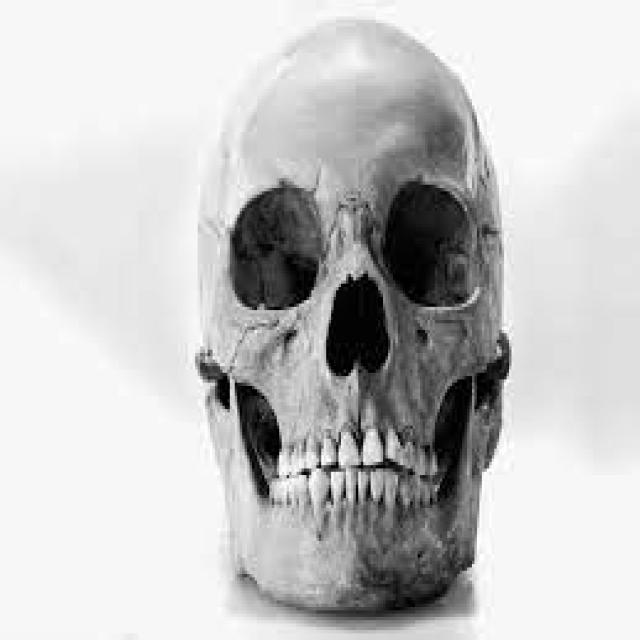skull: (188, 0, 523, 640)
